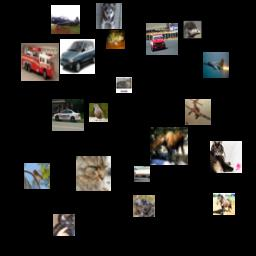airplane: (51, 5, 80, 34), (185, 99, 211, 125), (203, 52, 229, 78)
automobile: (60, 39, 95, 74), (146, 23, 178, 55), (52, 99, 84, 131)
bird: (24, 163, 50, 189), (89, 103, 108, 122), (183, 20, 202, 39)
cat: (76, 156, 111, 191), (210, 141, 242, 173), (53, 214, 75, 236), (116, 77, 132, 93)
deer: (150, 127, 188, 165)
dog: (96, 3, 122, 29)
frog: (133, 195, 155, 217), (106, 30, 125, 49)
truck: (21, 43, 59, 81), (134, 166, 150, 182)
